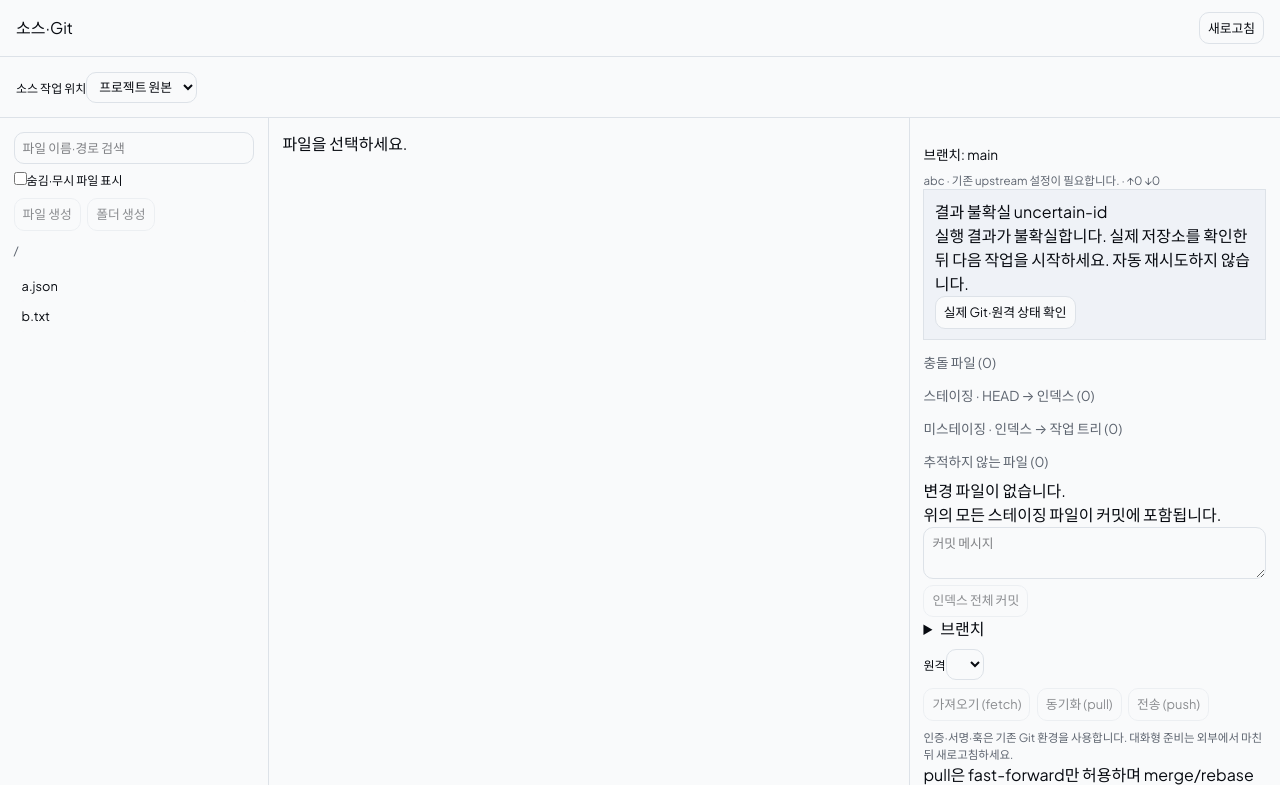
it: lets the user inspect an uncertain historical push operation without repeating it
Click the button "실제 Git·원격 상태 확인" at [1005, 312], box [935,296,1076,329]
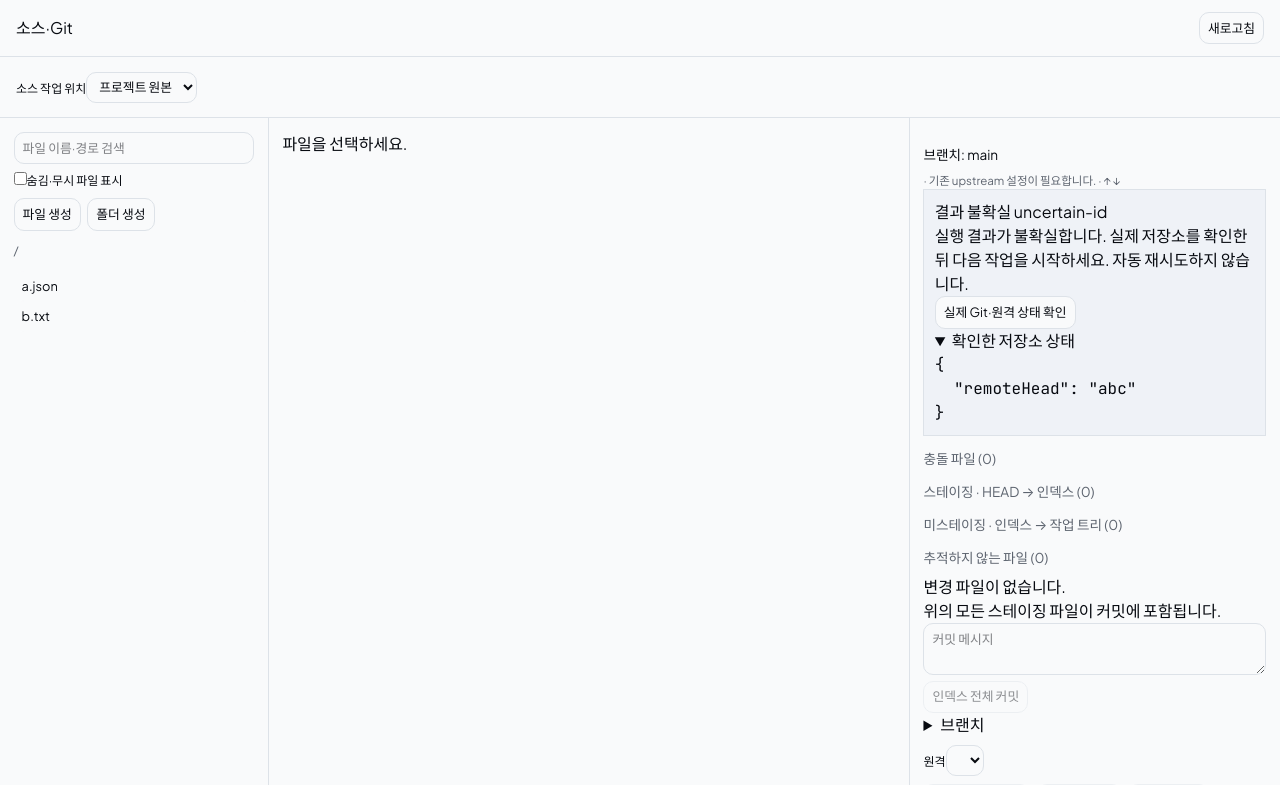
Now the text "{ \"remoteHead\": \"abc\" }" is shown, box [935,354,1136,422]
